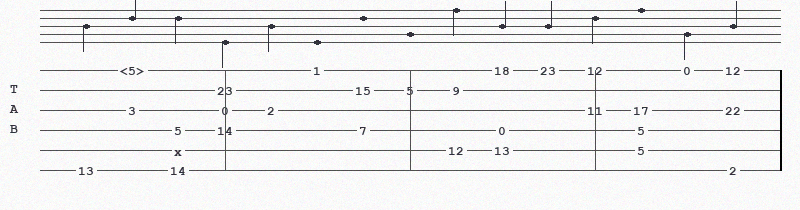0: (221, 104, 233, 116), (498, 124, 510, 136), (683, 64, 695, 76)
1: (313, 64, 325, 76)
11: (587, 104, 607, 116)
12: (448, 144, 468, 156), (587, 64, 607, 76), (725, 64, 745, 76)
13: (78, 164, 98, 176), (494, 144, 514, 156)
14: (170, 164, 190, 176), (217, 124, 237, 136)
15: (355, 84, 375, 96)
17: (633, 104, 653, 116)
18: (494, 64, 514, 76)
2: (267, 104, 279, 116), (729, 164, 741, 176)
22: (725, 104, 745, 116)
23: (217, 84, 237, 96), (540, 64, 560, 76)
3: (128, 104, 140, 116)
5: (174, 124, 186, 136), (406, 84, 418, 96), (637, 144, 649, 156), (637, 124, 649, 136)
7: (359, 124, 371, 136)
9: (452, 84, 464, 96)
harmonic: (120, 64, 149, 76)
x: (174, 145, 186, 155)
